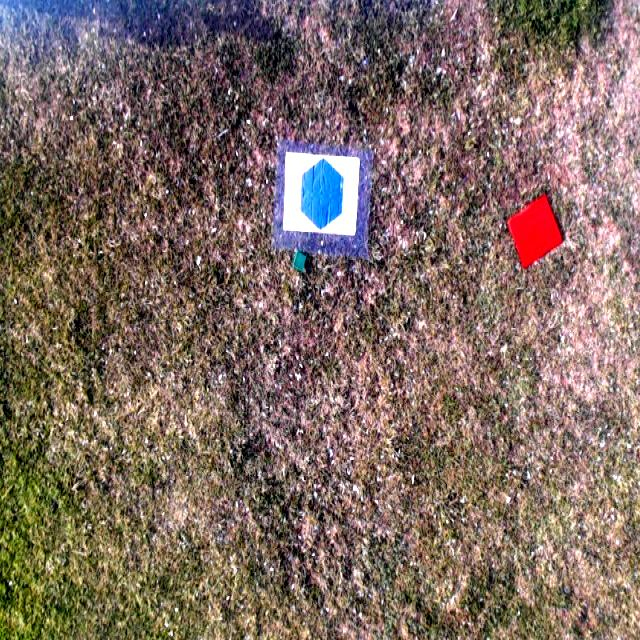blue_hexagon: (300, 158, 343, 231)
red_square: (508, 192, 563, 270)
